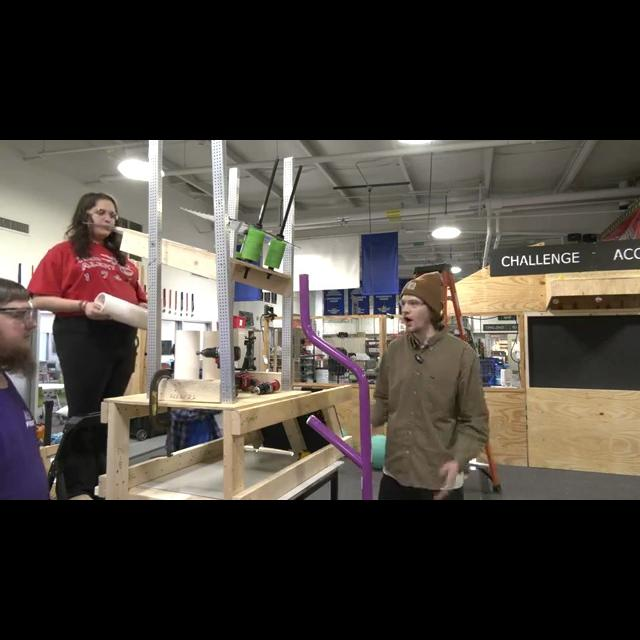CORAL: (92, 290, 148, 330), (174, 329, 198, 379)
